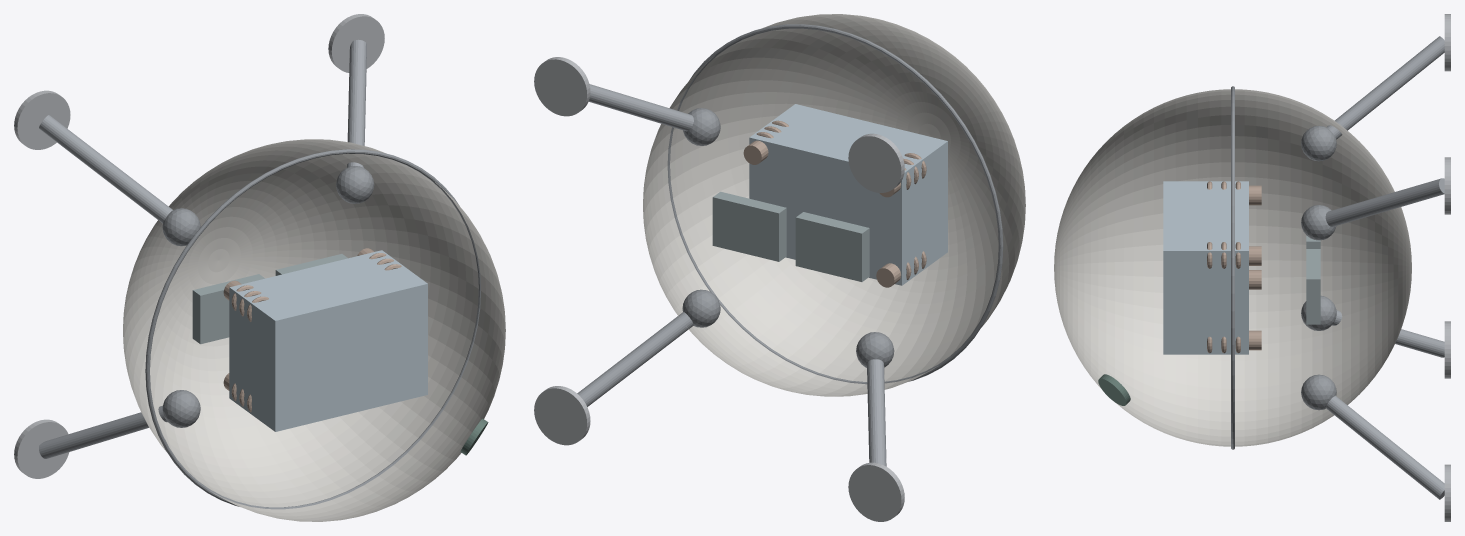
Rendered from concept2_self_verifying.glb.
3 renders of one model, left to right at view 1: azimuth 30°, elevation 25°; view 2: azimuth 150°, elevation 25°; view 3: azimuth 270°, elevation 25°, orthographic. The views are drawn at different scales.
Visible parts, largest first — view 1: ShellBottom, PayloadBox, ShellTop, Equator_Seam, Leg2_Strut, Electronics_A, Leg2_Foot, Leg3_Foot, Leg1_Foot, Leg3_Strut, Leg1_Strut, Leg1_Boss (+2 smaller); view 2: ShellTop, PayloadBox, ShellBottom, Equator_Seam, Electronics_B, Electronics_A, Leg2_Foot, Leg3_Foot, Leg4_Foot, Leg1_Foot, Leg4_Strut, Leg1_Strut (+4 smaller); view 3: ShellBottom, ShellTop, PayloadBox, Leg4_Strut, Leg2_Strut, Leg1_Strut, Equator_Seam, Electronics_B, Leg2_Boss, Leg4_Boss, Leg3_Strut, Leg1_Boss (+2 smaller).
Part boxes in pixels (<box>): ShellBottom: <box>123,139,478,507</box>; PayloadBox: <box>229,250,427,431</box>; ShellTop: <box>212,182,505,521</box>; Equator_Seam: <box>145,149,480,509</box>; Leg2_Strut: <box>39,115,172,223</box>; Electronics_A: <box>192,274,264,344</box>; Leg2_Foot: <box>14,90,70,149</box>; Leg3_Foot: <box>14,419,69,478</box>; Leg1_Foot: <box>328,14,384,72</box>; Leg3_Strut: <box>39,405,167,458</box>; Leg1_Strut: <box>347,39,366,167</box>; Leg1_Boss: <box>336,166,374,203</box>; ShellTop: <box>670,14,1025,381</box>; PayloadBox: <box>749,104,947,285</box>; ShellBottom: <box>643,57,937,396</box>; Equator_Seam: <box>667,24,1003,384</box>; Electronics_B: <box>712,191,786,261</box>; Electronics_A: <box>795,212,869,281</box>; Leg2_Foot: <box>848,133,904,192</box>; Leg3_Foot: <box>848,462,904,521</box>; Leg4_Foot: <box>534,386,590,445</box>; Leg1_Foot: <box>534,57,590,116</box>; Leg4_Strut: <box>577,312,693,406</box>; Leg1_Strut: <box>588,84,693,131</box>; ShellBottom: <box>1235,89,1411,446</box>; ShellTop: <box>1054,89,1230,446</box>; PayloadBox: <box>1163,181,1248,354</box>; Leg4_Strut: <box>1325,395,1444,499</box>; Leg2_Strut: <box>1326,36,1444,139</box>; Leg1_Strut: <box>1325,178,1444,226</box>; Equator_Seam: <box>1231,86,1234,449</box>; Electronics_B: <box>1306,249,1320,324</box>; Leg2_Boss: <box>1301,125,1336,161</box>; Leg4_Boss: <box>1301,374,1336,410</box>; Leg3_Strut: <box>1332,310,1444,357</box>; Leg1_Boss: <box>1301,205,1336,240</box>.
Size of the model in its own units: 2.22 by 2.22 by 2.22.
